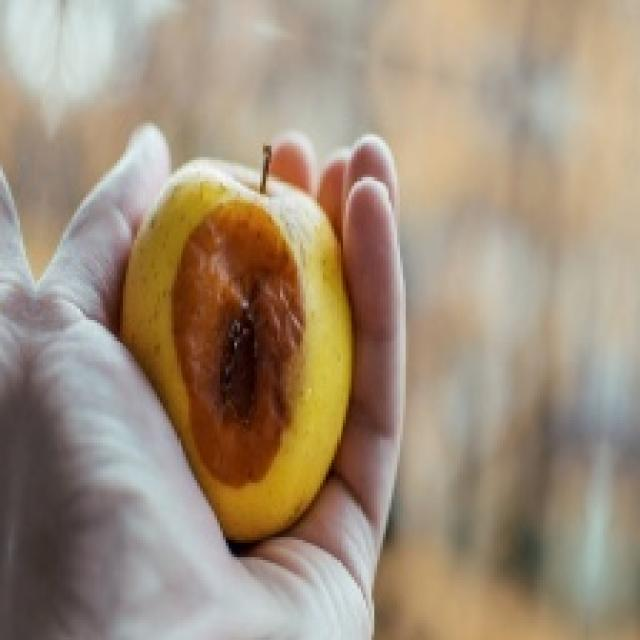rotten_apple: (129, 159, 352, 540)
